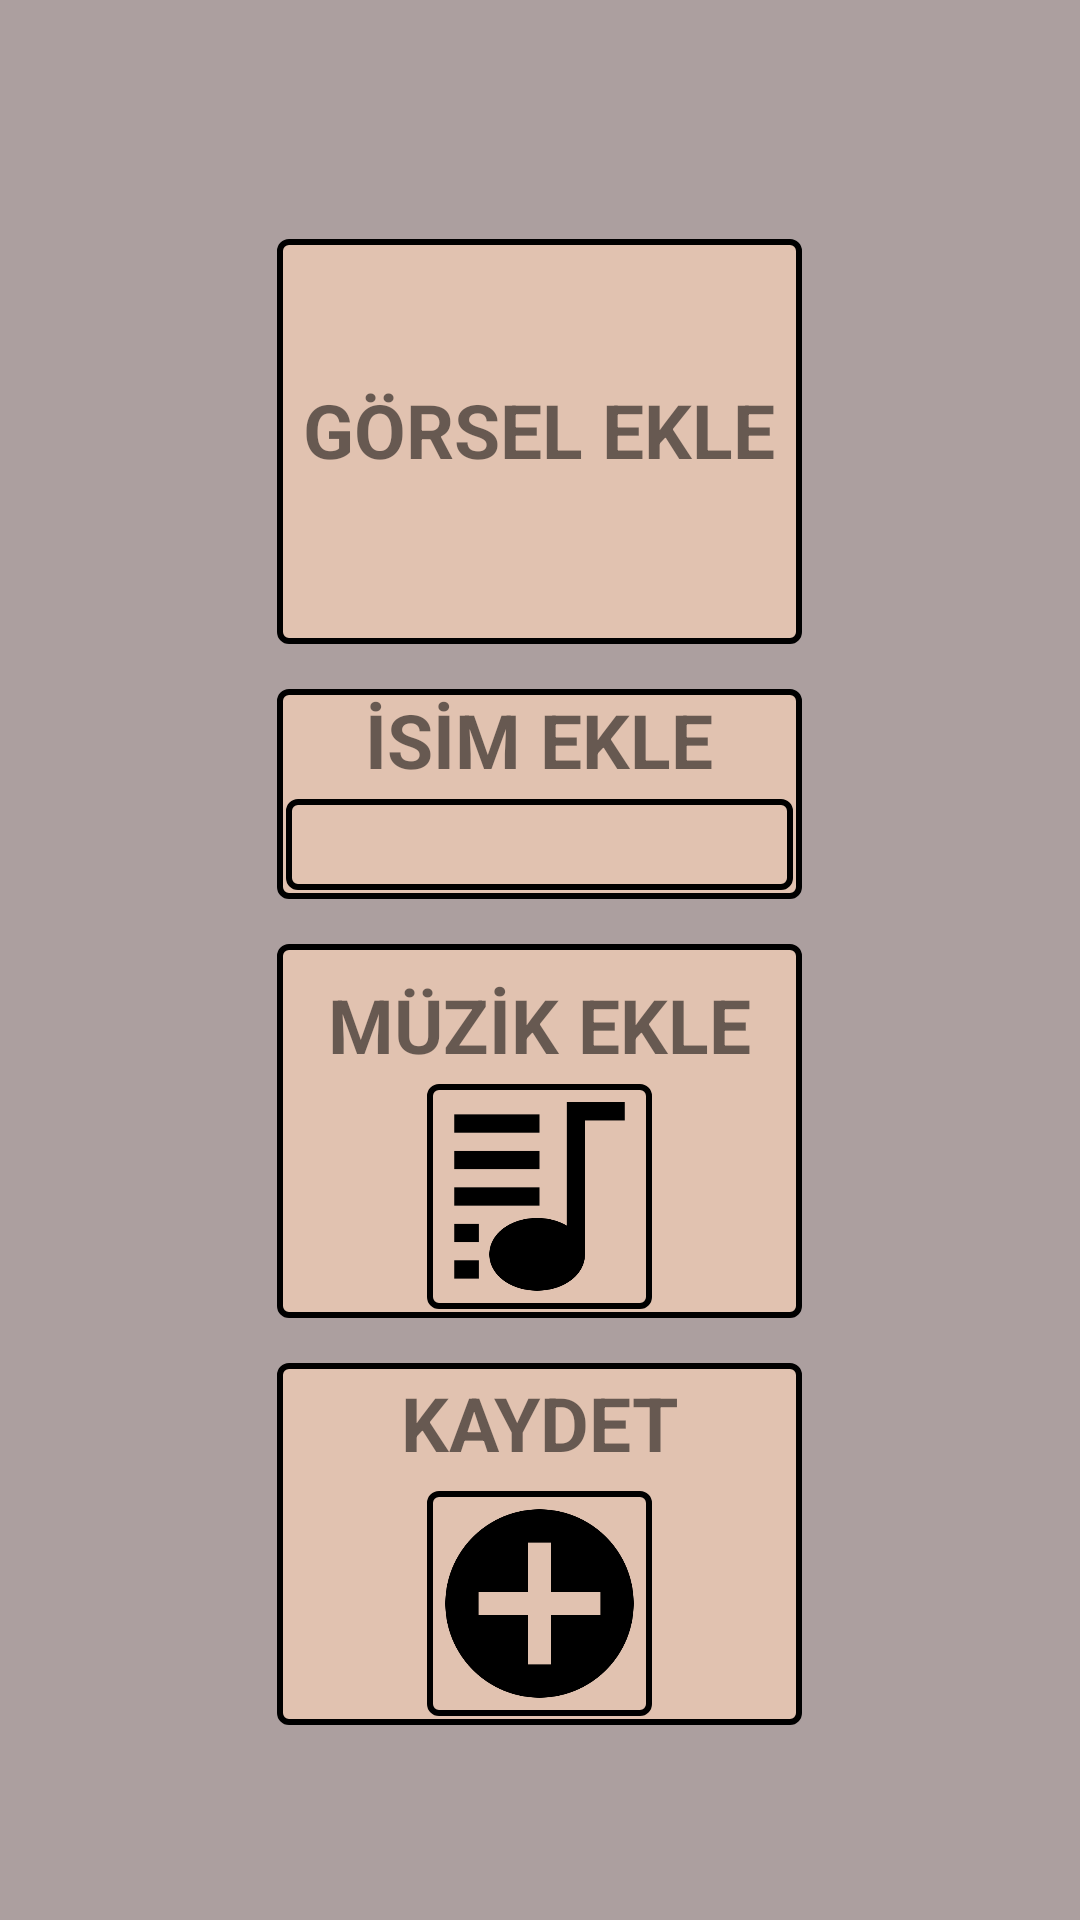

Named icons in this screenshot (1080px×1920px) and their bounding boxes, (x1, y1, x2, y2):
ekle: (427, 1491, 652, 1716)
playlist: (427, 1084, 652, 1309)
